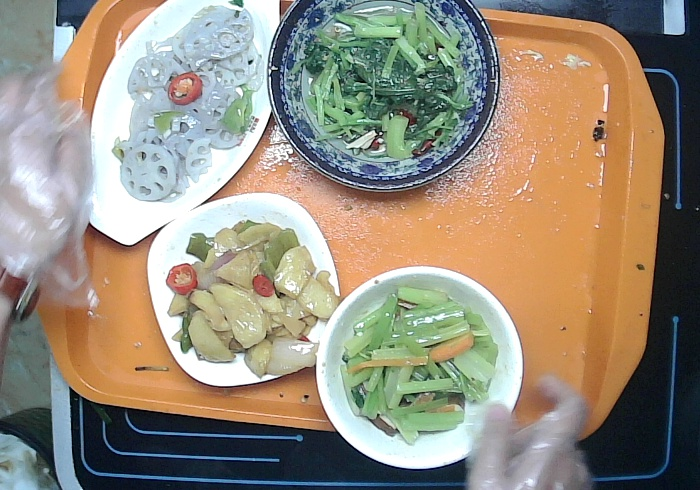ZNLD-Qing_Hua_Wan: (265, 1, 500, 190)
ZNLD-Si_Fang_Wan: (147, 190, 345, 389)
ZNLD-Tang_Wan: (315, 256, 533, 475)
ZNLD-Yu_Pan: (86, 1, 286, 246)
